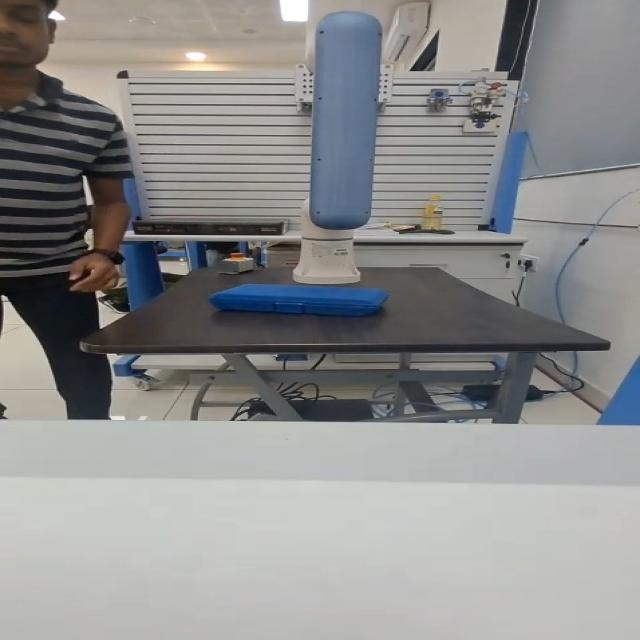top-surface: (238, 287, 363, 300)
